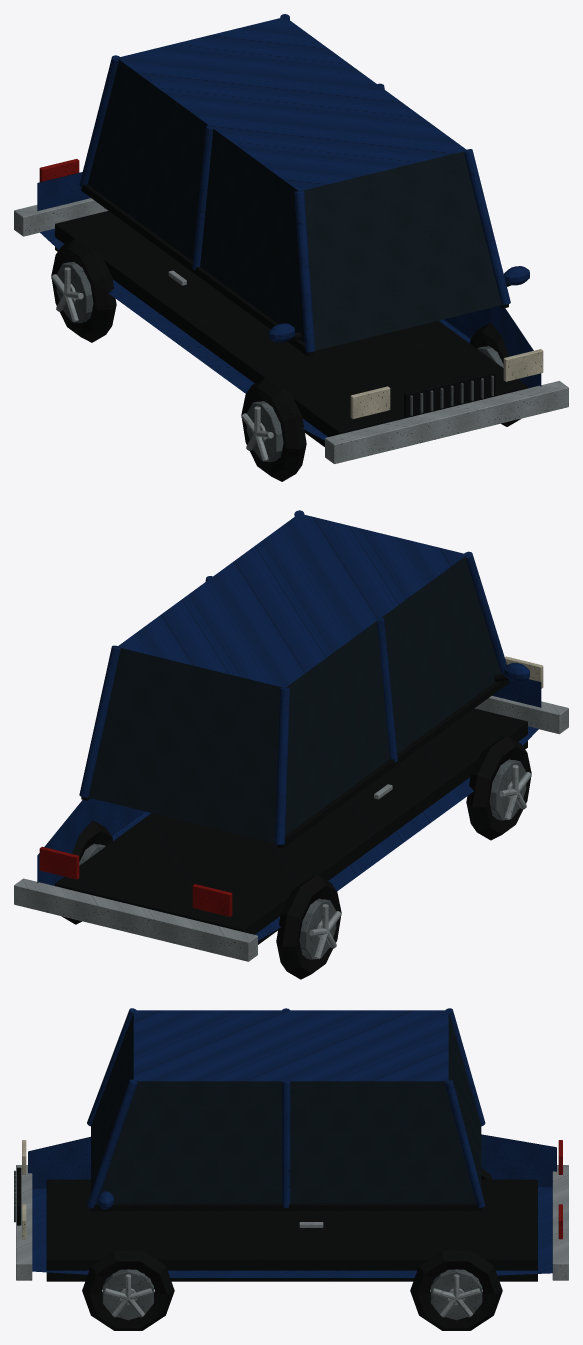
The model's file is PROP-8209AA61FCC5_lod1.glb.
3 renders of one model, top to bottom at view 1: azimuth 30°, elevation 25°; view 2: azimuth 150°, elevation 25°; view 3: azimuth 270°, elevation 25°, orthographic. The views are drawn at different scales.
Visible parts, largest first — view 1: sloped_cabin_glazing.031, roof_panel.029, chassis.031, bumper.031, tire.031, shaped_body_panels.031, window_pillars.031, rim.031, window_belt.031, lamp_lenses.062, radiator_grille.031, rim_spokes.031 (+3 smaller); view 2: sloped_cabin_glazing.031, roof_panel.029, chassis.031, bumper.031, tire.031, shaped_body_panels.031, window_pillars.031, rim.031, window_belt.031, lamp_lenses.063, rim_spokes.031; view 3: sloped_cabin_glazing.031, chassis.031, roof_panel.029, shaped_body_panels.031, tire.031, window_pillars.031, window_belt.031, bumper.031, rim.031, rim_spokes.031.
Part boxes in pixels (x1=…): sloped_cabin_glazing.031: x1=87, y1=58, x2=501, y2=350; roof_panel.029: x1=117, y1=17, x2=467, y2=191; chassis.031: x1=55, y1=211, x2=527, y2=446; bumper.031: x1=14, y1=198, x2=568, y2=463; tire.031: x1=51, y1=238, x2=520, y2=481; shaped_body_panels.031: x1=37, y1=172, x2=541, y2=440; window_pillars.031: x1=79, y1=14, x2=510, y2=352; rim.031: x1=56, y1=261, x2=503, y2=461; window_belt.031: x1=81, y1=184, x2=508, y2=356; lamp_lenses.062: x1=350, y1=349, x2=543, y2=419; radiator_grille.031: x1=404, y1=370, x2=495, y2=417; rim_spokes.031: x1=51, y1=267, x2=273, y2=461; sloped_cabin_glazing.031: x1=88, y1=555, x2=501, y2=842; roof_panel.029: x1=117, y1=513, x2=467, y2=687; chassis.031: x1=55, y1=708, x2=527, y2=944; bumper.031: x1=14, y1=696, x2=568, y2=961; tire.031: x1=62, y1=735, x2=531, y2=979; shaped_body_panels.031: x1=37, y1=679, x2=541, y2=940; window_pillars.031: x1=79, y1=510, x2=506, y2=844; rim.031: x1=79, y1=759, x2=526, y2=959; window_belt.031: x1=81, y1=680, x2=508, y2=848; lamp_lenses.063: x1=39, y1=846, x2=232, y2=916; rim_spokes.031: x1=309, y1=765, x2=531, y2=959; sloped_cabin_glazing.031: x1=91, y1=1013, x2=481, y2=1203; chassis.031: x1=46, y1=1179, x2=537, y2=1281; roof_panel.029: x1=133, y1=1010, x2=448, y2=1081; shaped_body_panels.031: x1=28, y1=1134, x2=556, y2=1277; tire.031: x1=82, y1=1168, x2=502, y2=1330; window_pillars.031: x1=87, y1=1008, x2=485, y2=1208; window_belt.031: x1=91, y1=1203, x2=481, y2=1211; bumper.031: x1=16, y1=1165, x2=568, y2=1280; rim.031: x1=102, y1=1269, x2=482, y2=1320; rim_spokes.031: x1=104, y1=1274, x2=480, y2=1317.
Size of the model in its own units: 2.09 by 2.09 by 4.41.
Materials: 8 (8 with a texture image).
